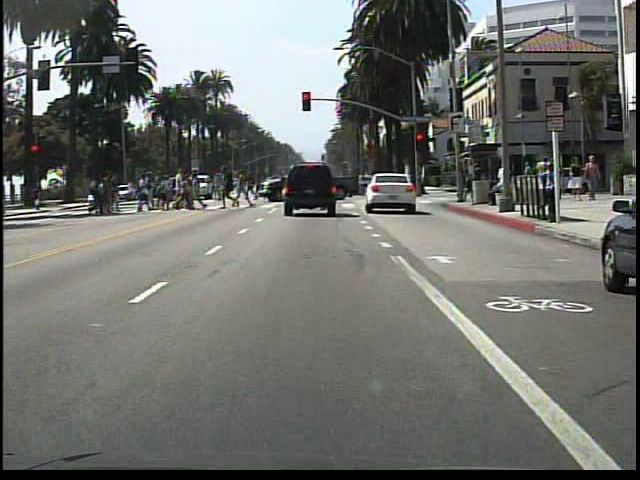person: (538, 157, 556, 223), (566, 154, 585, 206), (583, 154, 601, 204)
